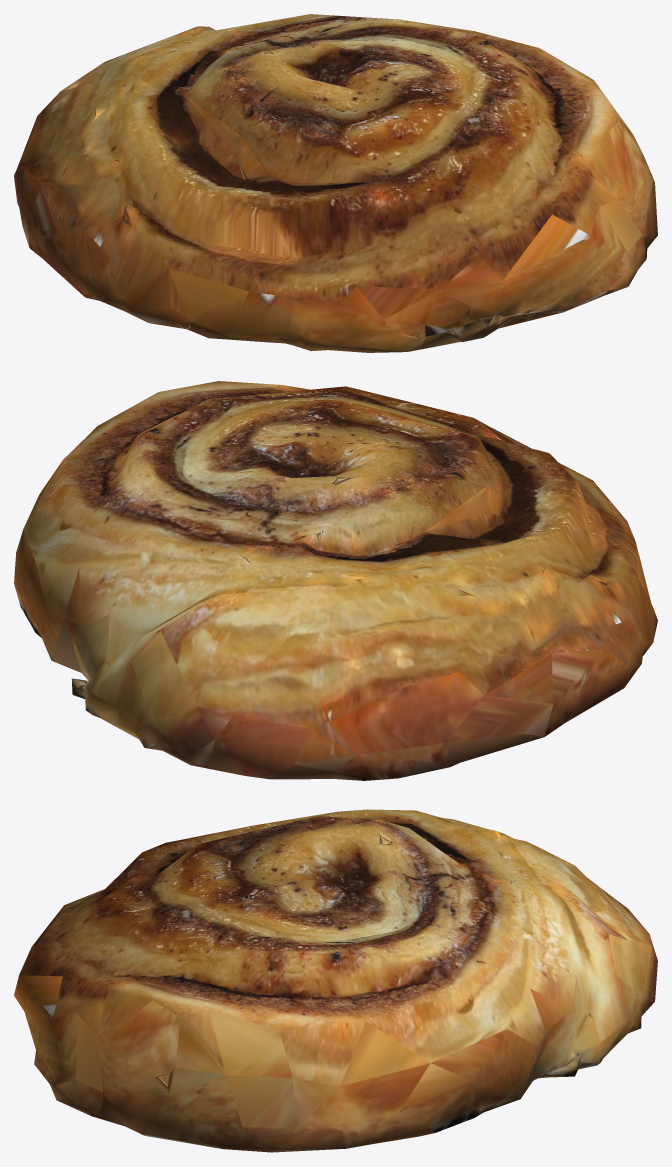
The model's file is cinnamon_1224.obj.
3 views of the same model, one above another, from view 1: azimuth 30°, elevation 25°; view 2: azimuth 150°, elevation 25°; view 3: azimuth 270°, elevation 25° (orthographic). The views are drawn at different scales.
Bounding box in the file's own units: 111 × 34 × 115.
1 material, 1 textured.
